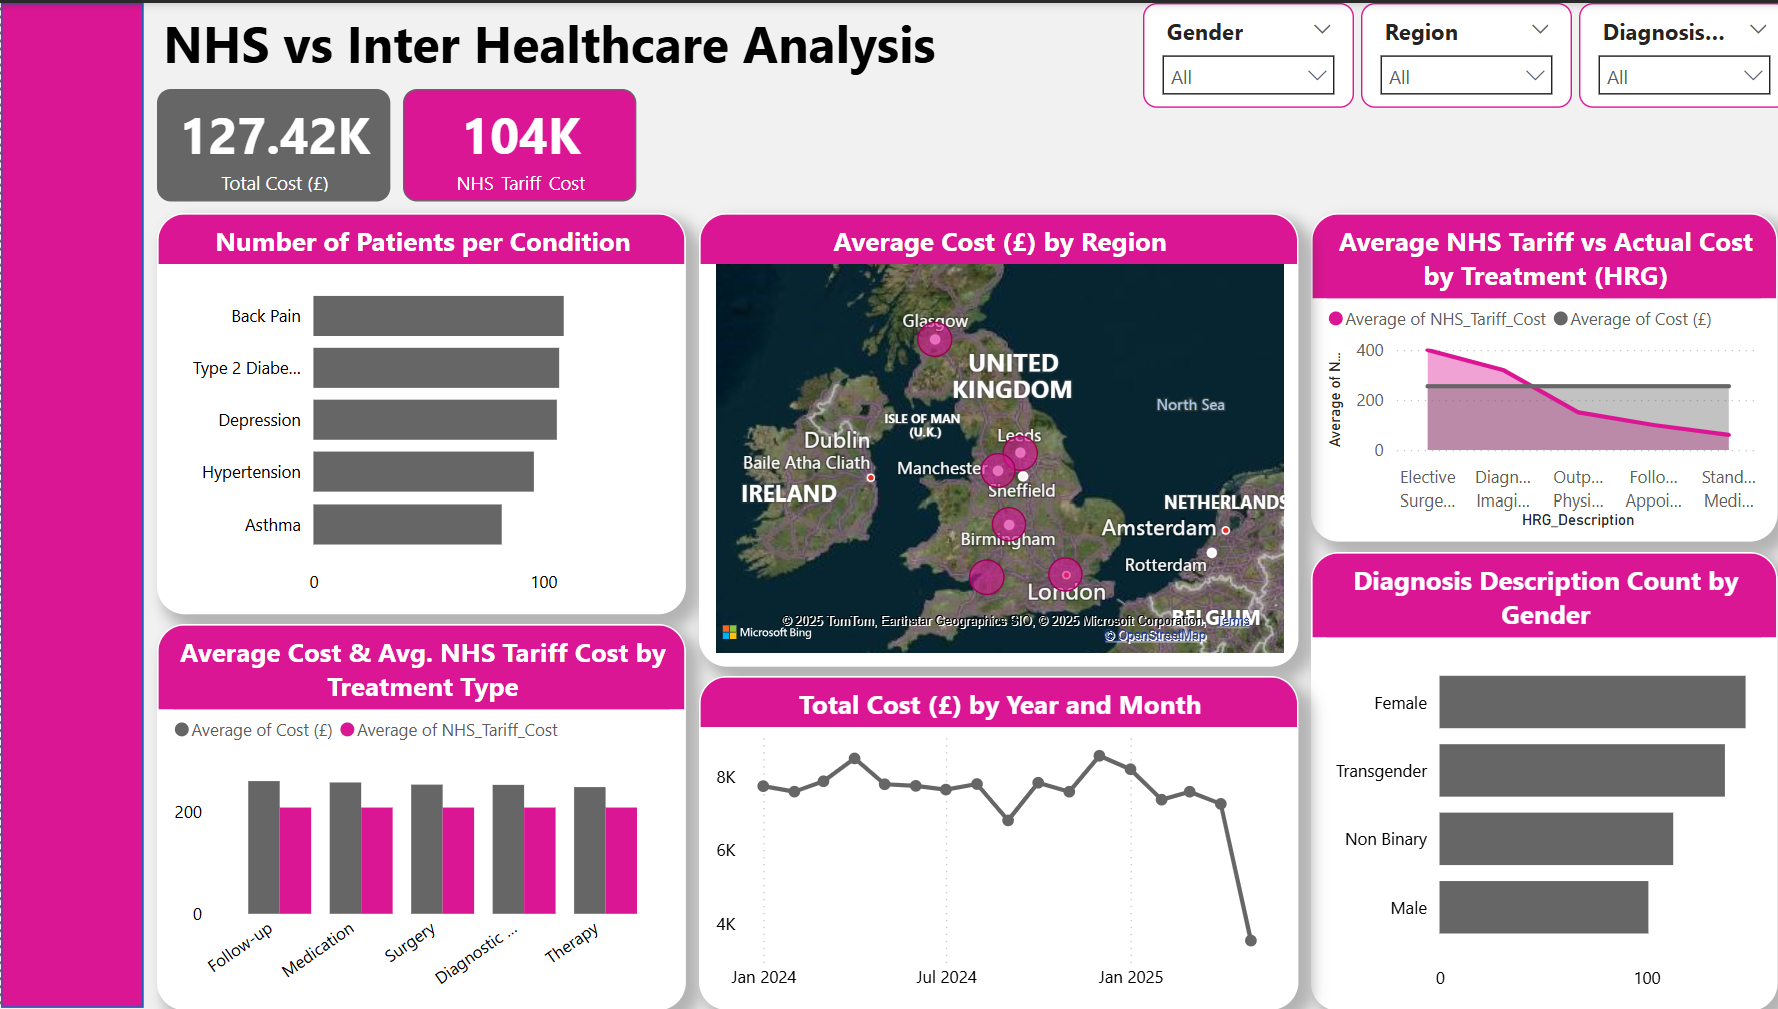

The page's visual inventory and layout, read from the dashboard file:
{"tool":"powerbi","page":{"name":"Overview Dashboard","canvas":[1280,720],"ordinal":0},"visuals":[{"type":"clusteredBarChart","title":"Number of Patients per Condition","fields":{"Category":["uk_healthcare_dataset.Diagnosis_Description"],"Y":["CountNonNull(uk_healthcare_dataset.Patient_ID)"]},"box":[112.3,149.8,378.7,286.6],"z":0},{"type":"clusteredColumnChart","title":"Average Cost & Avg. NHS Tariff Cost by Treatment Type","fields":{"Y":["Avg(uk_healthcare_dataset.Cost (£))","Avg(nhs_tariff.NHS_Tariff_Cost)"],"Category":["uk_healthcare_dataset.Treatment_Description"]},"box":[112.3,443.5,378.7,276.5],"z":1000},{"type":"areaChart","title":"Average NHS Tariff vs Actual Cost by Treatment (HRG)","fields":{"Category":["nhs_tariff.HRG_Description"],"Y":["Avg(nhs_tariff.NHS_Tariff_Cost)","Avg(uk_healthcare_dataset.Cost (£))"]},"box":[937.4,149.8,334.1,234.7],"z":2000},{"type":"map","title":"Average Cost (£) by Region","fields":{"Category":["uk_healthcare_dataset.Region"],"Size":["Avg(uk_healthcare_dataset.Cost (£))"]},"box":[499.7,149.8,429.1,324],"z":3000},{"type":"card","fields":{"Values":["Sum(uk_healthcare_dataset.Cost (£))"]},"box":[112.3,61.9,167,80.6],"z":4000},{"type":"card","fields":{"Values":["Sum(nhs_tariff.NHS_Tariff_Cost)"]},"box":[288,61.9,167,80.6],"z":5000},{"type":"clusteredBarChart","title":"Diagnosis Description Count by Gender","fields":{"Category":["uk_healthcare_dataset.Gender"],"Y":["CountNonNull(uk_healthcare_dataset.Diagnosis_Description)"]},"box":[937.4,391.7,334.1,328.3],"z":6000},{"type":"shape","box":[0,0,102.2,720],"z":7000},{"type":"actionButton","box":[102.2,0,581.8,51.8],"z":8000},{"type":"lineChart","title":"Total Cost (£) by Year and Month","fields":{"Y":["Sum(uk_healthcare_dataset.Cost (£))"],"Category":["uk_healthcare_dataset.Visit_Date.Variation.Date Hierarchy.Year","uk_healthcare_dataset.Visit_Date.Variation.Date Hierarchy.Month"]},"box":[499.7,481,429.1,239],"z":9000},{"type":"slicer","fields":{"Values":["uk_healthcare_dataset.Gender"]},"box":[817.9,0,151.2,74.9],"z":10000},{"type":"slicer","fields":{"Values":["uk_healthcare_dataset.Region"]},"box":[973.4,0,151.2,74.9],"z":11000},{"type":"slicer","fields":{"Values":["uk_healthcare_dataset.Diagnosis_Description","uk_healthcare_dataset.Treatment_Description"]},"box":[1129,0,151.2,74.9],"z":12000}]}

Visuals, with their boxes in screenshot pixels (x1, y1, x2, y2), scaled from the page's 1280x720 canvas onto the 1778x1009 screenshot:
"Number of Patients per Condition" clusteredBarChart: x1=156, y1=210, x2=682, y2=612
"Average Cost & Avg. NHS Tariff Cost by Treatment Type" clusteredColumnChart: x1=156, y1=622, x2=682, y2=1008
"Average NHS Tariff vs Actual Cost by Treatment (HRG)" areaChart: x1=1302, y1=210, x2=1766, y2=539
"Average Cost (£) by Region" map: x1=694, y1=210, x2=1290, y2=664
card - Sum(uk_healthcare_dataset.Cost (£)): x1=156, y1=87, x2=388, y2=200
card - Sum(nhs_tariff.NHS_Tariff_Cost): x1=400, y1=87, x2=632, y2=200
"Diagnosis Description Count by Gender" clusteredBarChart: x1=1302, y1=549, x2=1766, y2=1008
shape: x1=0, y1=0, x2=142, y2=1008
actionButton: x1=142, y1=0, x2=950, y2=73
"Total Cost (£) by Year and Month" lineChart: x1=694, y1=674, x2=1290, y2=1008
slicer - uk_healthcare_dataset.Gender: x1=1136, y1=0, x2=1346, y2=105
slicer - uk_healthcare_dataset.Region: x1=1352, y1=0, x2=1562, y2=105
slicer - uk_healthcare_dataset.Diagnosis_Description x uk_healthcare_dataset.Treatment_Description: x1=1568, y1=0, x2=1777, y2=105
